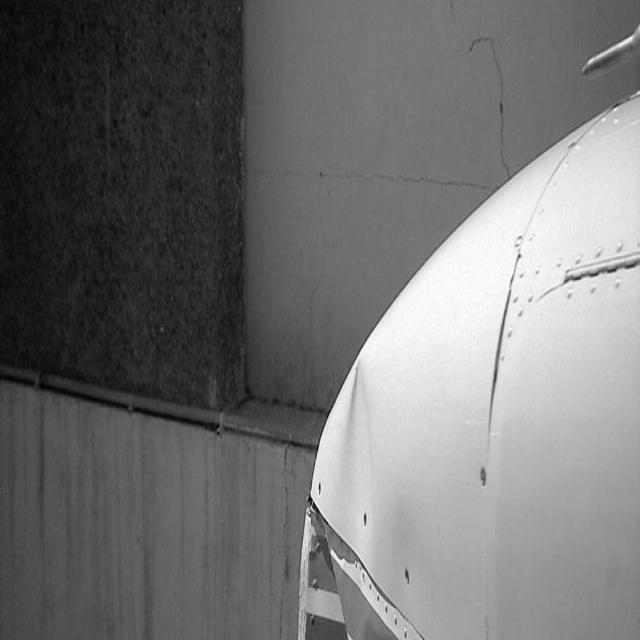dent: (295, 357, 377, 640)
